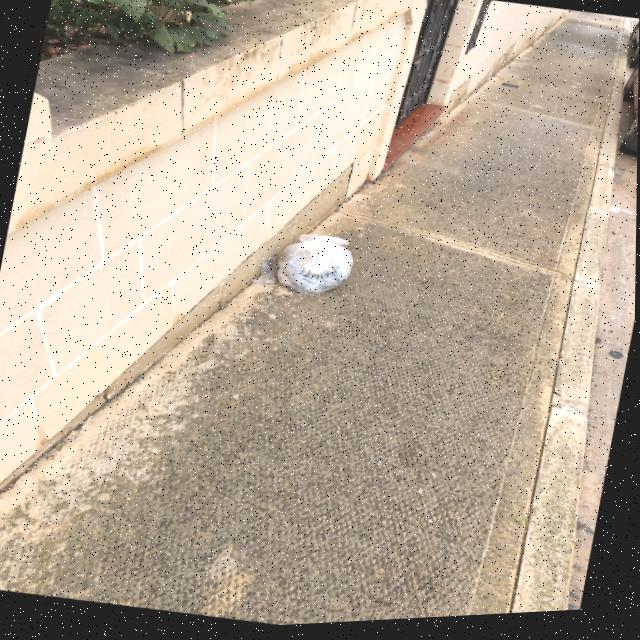Organic Waste -White Bag-: (274, 231, 360, 308)
